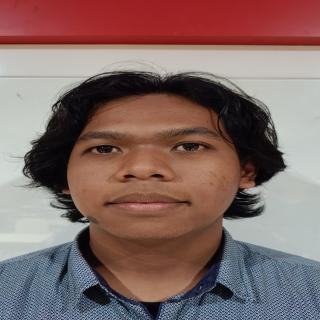Netral: (58, 85, 251, 245)
